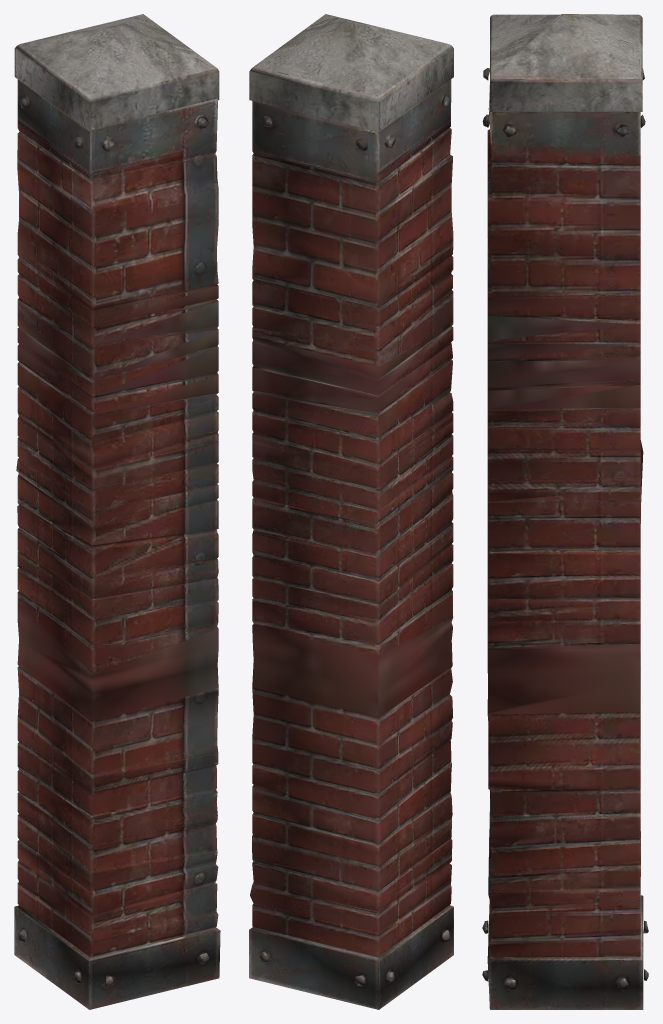
Rendered from modular_corner_pillar.glb.
The picture shows the model from 3 angles, left to right: view 1: azimuth 30°, elevation 25°; view 2: azimuth 150°, elevation 25°; view 3: azimuth 270°, elevation 25°; orthographic projection. The views are drawn at different scales.
Parts seen in each view (by area): view 1: Meshy_AI_modular_corner_pillar_3d_20261028_texture; view 2: Meshy_AI_modular_corner_pillar_3d_20261028_texture; view 3: Meshy_AI_modular_corner_pillar_3d_20261028_texture.
Part boxes in pixels (bbox=[...]): Meshy_AI_modular_corner_pillar_3d_20261028_texture: bbox=[14, 14, 220, 1009]; Meshy_AI_modular_corner_pillar_3d_20261028_texture: bbox=[249, 14, 453, 1009]; Meshy_AI_modular_corner_pillar_3d_20261028_texture: bbox=[482, 14, 648, 1009].
Bounding box in the file's own units: 0.4699 × 3 × 0.4699.
1 material, 1 textured.
